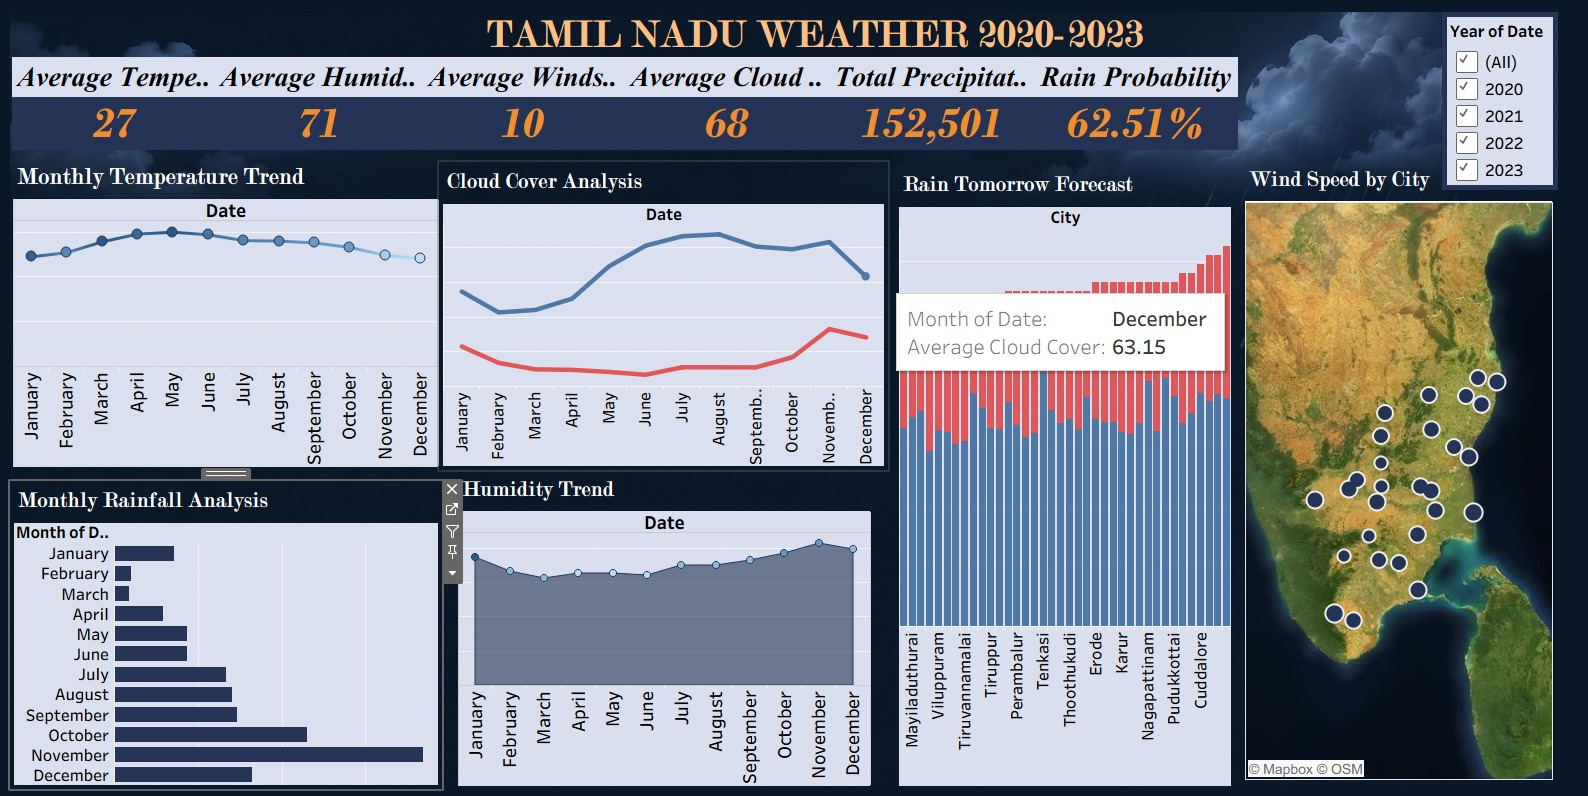

The page's visual inventory and layout, read from the dashboard file:
{"tool":"tableau","page":{"name":"Tamil Nadu Dashboard ","canvas":[1590,800],"ordinal":0},"visuals":[{"type":"text","box":[317,0,1000,69]},{"type":"image","param":"C:/Users/athulya/OneDrive/Desktop/Moody Rainy Night Background.png","box":[8,8,1574,784]},{"type":"filter","title":"Monthly Temperature Trend","param":"[federated.0rr1zhq1au9sog183vmv71a2kwgp].[yr:Date:ok]","box":[1444,12,116,178]},{"type":"worksheet","title":"KPI","mark":"Automatic","box":[10,53,1234,101]},{"type":"worksheet","title":"Monthly Temperature Trend","mark":"Automatic","rows":["Temperature_2m","Temperature_2m"],"cols":["Date"],"box":[15,160,426,307]},{"type":"worksheet","title":"Wind Speed by City","mark":"Automatic","box":[1243,160,316,624]},{"type":"worksheet","title":"Cloud Cover Analysis","mark":"Automatic","cols":["Date"],"box":[441,162,449,308]},{"type":"worksheet","title":"Rain Tomorrow Forecast","mark":"Automatic","rows":["Rain_tomorrow"],"cols":["City"],"box":[897,165,340,625]},{"type":"worksheet","title":"Humidity Trend","mark":"Area","rows":["Relative_humidity_2m","Relative_humidity_2m"],"cols":["Date"],"box":[456,470,421,320]},{"type":"worksheet","title":"Monthly Rainfall Analysis","mark":"Bar","rows":["Date"],"cols":["Rain"],"box":[12,481,432,308]}]}

Visuals, with their boxes in screenshot pixels (x1, y1, x2, y2), scaled from the page's 1590x800 canvas onto the 1588x796 screenshot:
text: (x1=317, y1=0, x2=1315, y2=69)
image: (x1=8, y1=8, x2=1580, y2=788)
"Monthly Temperature Trend" filter: (x1=1442, y1=12, x2=1558, y2=189)
"KPI" worksheet: (x1=10, y1=53, x2=1242, y2=153)
"Monthly Temperature Trend" worksheet: (x1=15, y1=159, x2=440, y2=465)
"Wind Speed by City" worksheet: (x1=1241, y1=159, x2=1557, y2=780)
"Cloud Cover Analysis" worksheet: (x1=440, y1=161, x2=889, y2=468)
"Rain Tomorrow Forecast" worksheet: (x1=896, y1=164, x2=1235, y2=786)
"Humidity Trend" worksheet (Area marks): (x1=455, y1=468, x2=876, y2=786)
"Monthly Rainfall Analysis" worksheet (Bar marks): (x1=12, y1=479, x2=443, y2=785)
